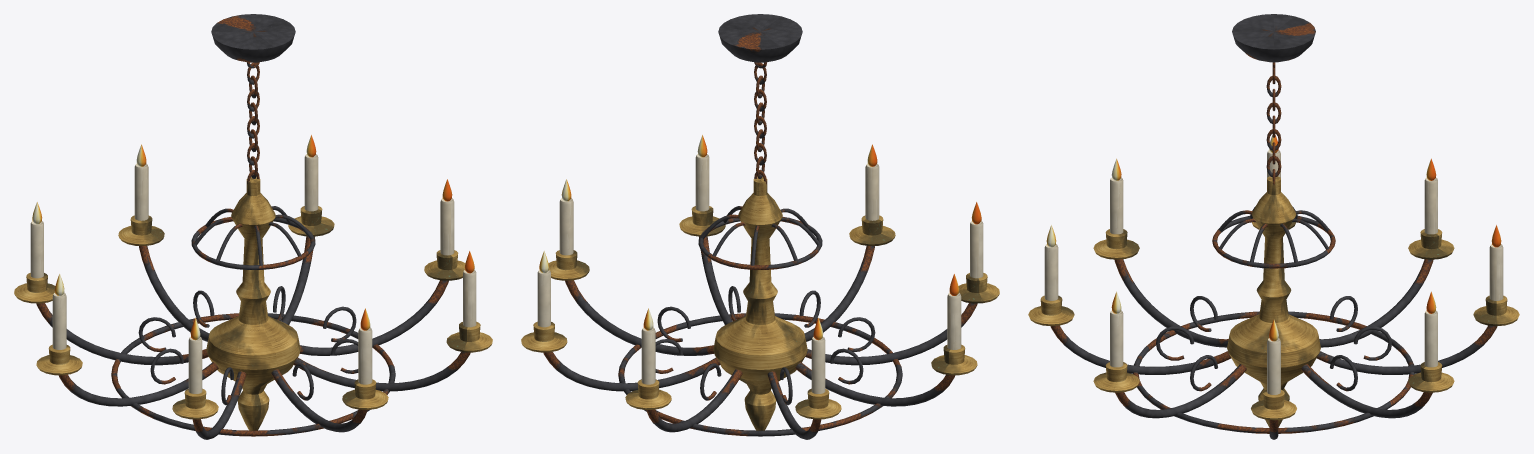
Rendered from lib_chandelier.obj.
3 renders of one model, left to right at view 1: azimuth 30°, elevation 25°; view 2: azimuth 150°, elevation 25°; view 3: azimuth 270°, elevation 25°, orthographic.
Parts seen in each view (by area): view 1: lib_chandelier_iron, lib_chandelier_brass, lib_chandelier_wax, lib_chandelier_flame_glow; view 2: lib_chandelier_iron, lib_chandelier_brass, lib_chandelier_wax, lib_chandelier_flame_glow; view 3: lib_chandelier_iron, lib_chandelier_brass, lib_chandelier_wax, lib_chandelier_flame_glow.
Boxes of the visible parts, <box> form: lib_chandelier_iron: <box>36,14,470,439</box>; lib_chandelier_brass: <box>14,177,492,430</box>; lib_chandelier_wax: <box>30,154,476,393</box>; lib_chandelier_flame_glow: <box>32,135,474,340</box>; lib_chandelier_iron: <box>543,14,977,439</box>; lib_chandelier_brass: <box>521,177,999,430</box>; lib_chandelier_wax: <box>537,154,983,393</box>; lib_chandelier_flame_glow: <box>539,135,981,340</box>; lib_chandelier_iron: <box>1050,14,1497,439</box>; lib_chandelier_brass: <box>1028,176,1519,427</box>; lib_chandelier_wax: <box>1044,150,1503,394</box>; lib_chandelier_flame_glow: <box>1046,135,1501,341</box>.
Bounding box in the file's own units: 1 × 0.9 × 1.
Materials: 4 (4 with a texture image).
